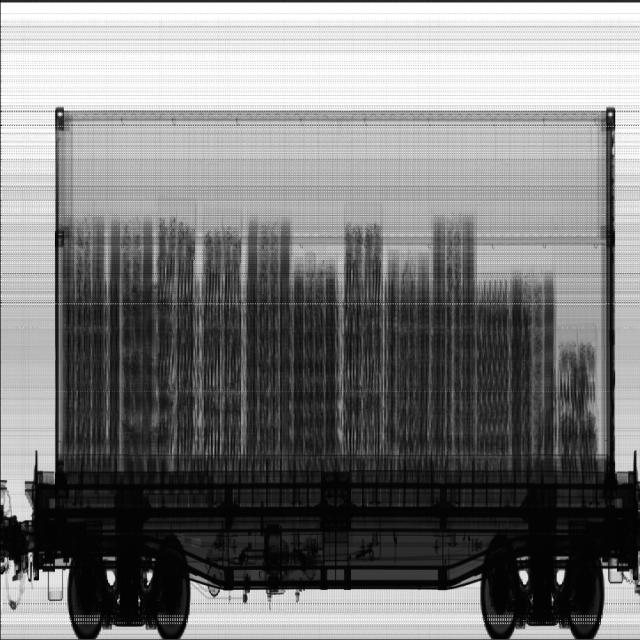auto parts: (119, 213, 202, 453)
